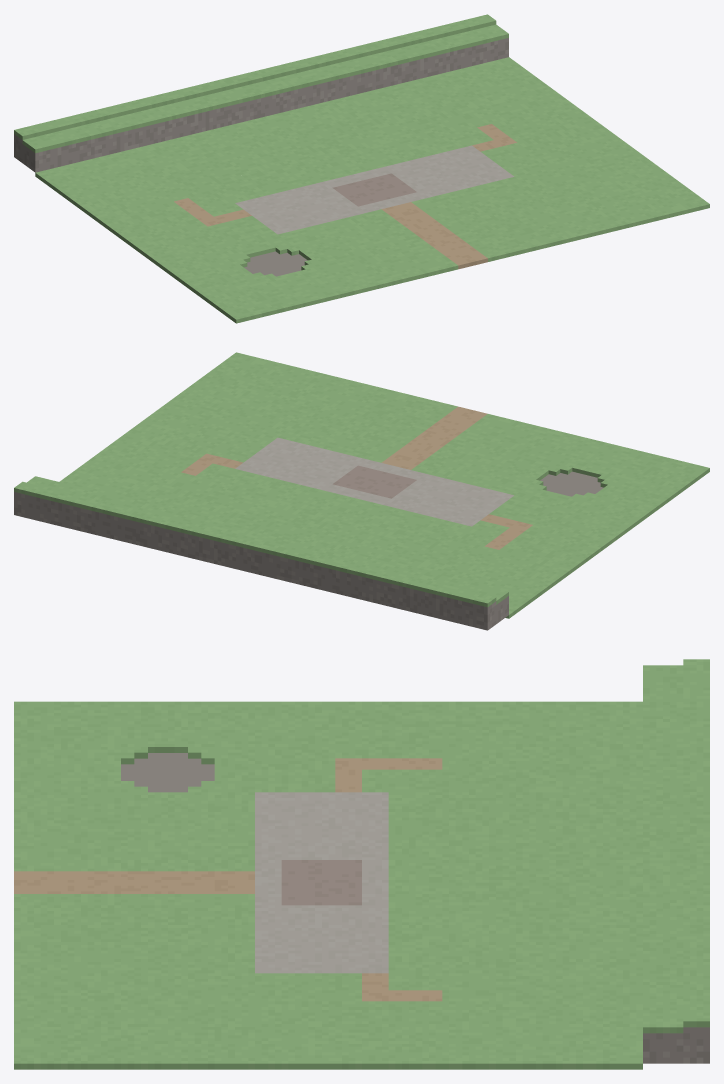
Rendered from terrain_village.glb.
The picture shows the model from 3 angles, top to bottom: view 1: azimuth 30°, elevation 25°; view 2: azimuth 150°, elevation 25°; view 3: azimuth 270°, elevation 25°; orthographic projection. The views are drawn at different scales.
Parts seen in each view (by area): view 1: geometry_0; view 2: geometry_0; view 3: geometry_0.
Boxes of the visible parts, <box> form: geometry_0: <box>14,14,709,323</box>; geometry_0: <box>14,352,709,630</box>; geometry_0: <box>14,659,709,1069</box>.
Size of the model in its own units: 64 by 5 by 52.
